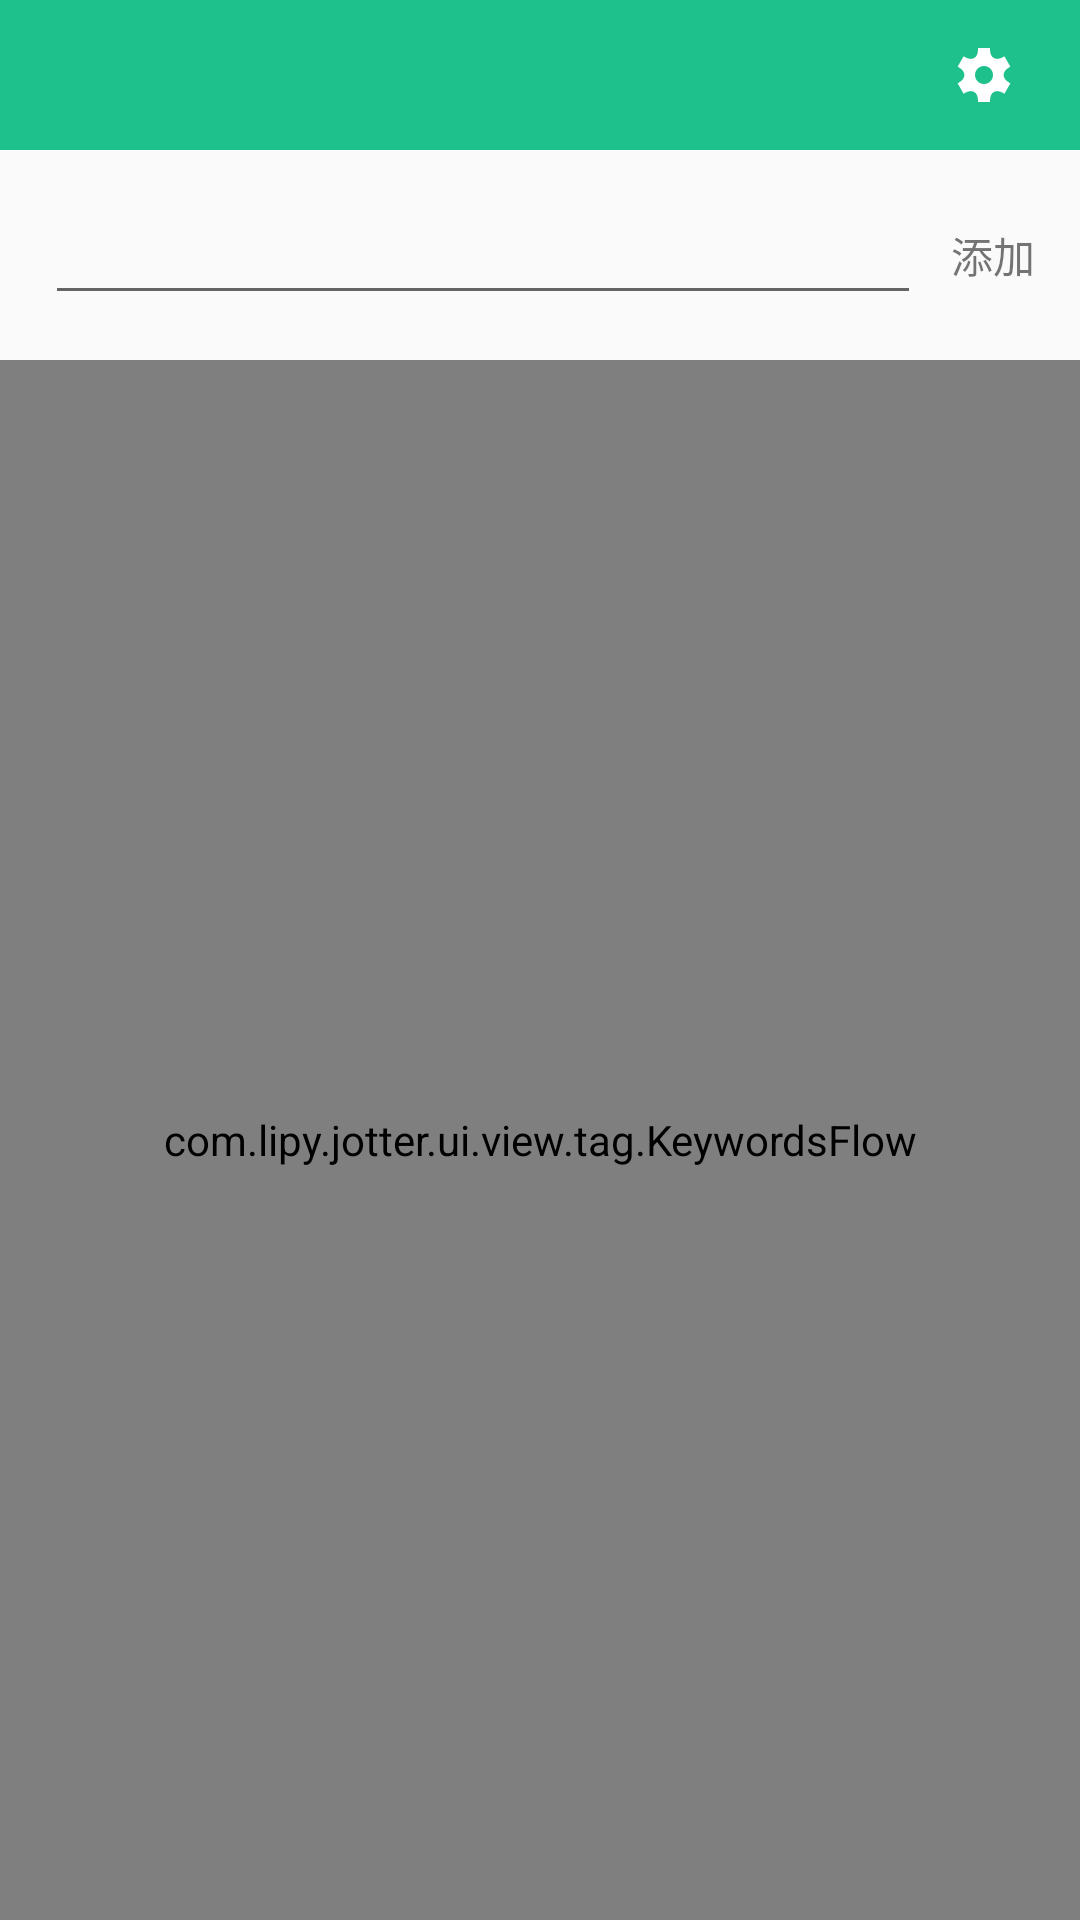

Where to tap for icons on this 1080*1920 app screen, as (x,y):
widget settings: (984,75)
